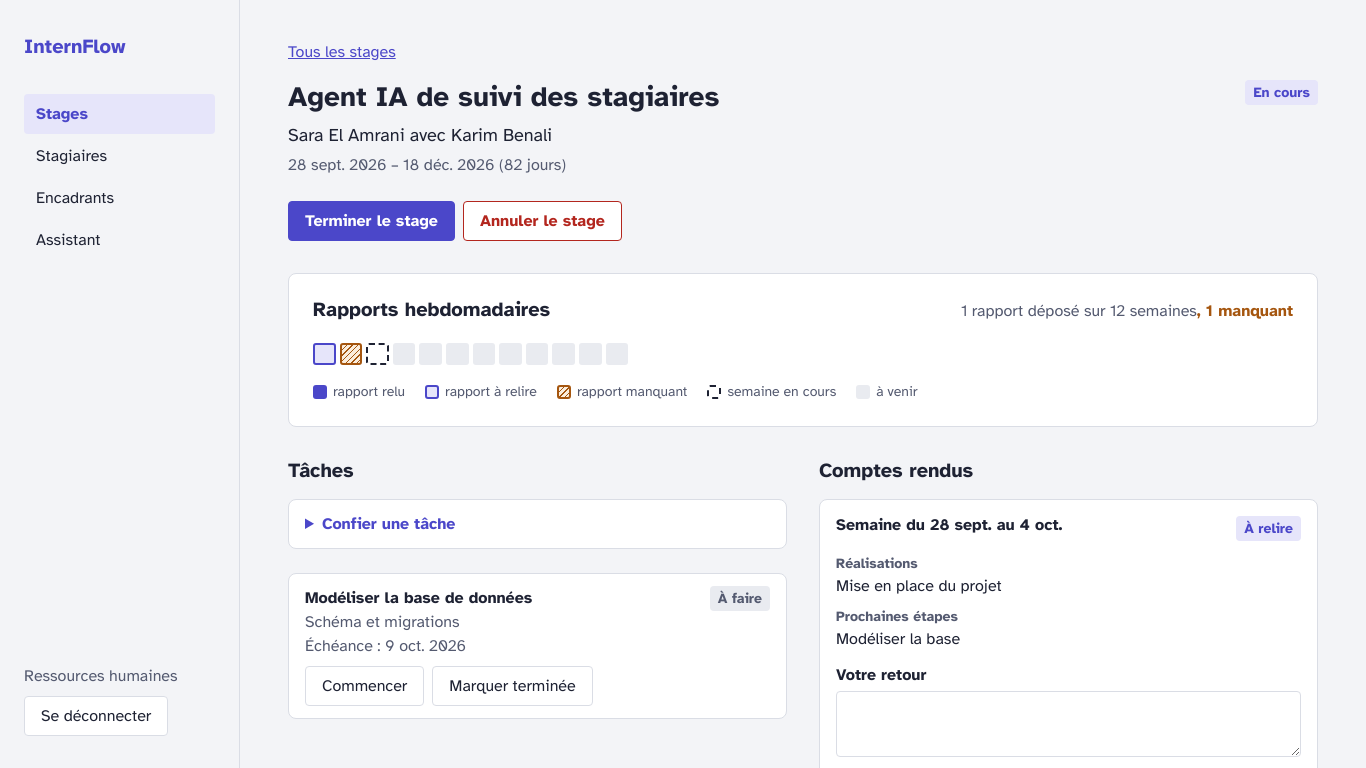
Test: page d'un stage › réserve l'annulation aux RH
Click the button "Annuler le stage". click: x=542, y=221
box: [463,201,622,241]
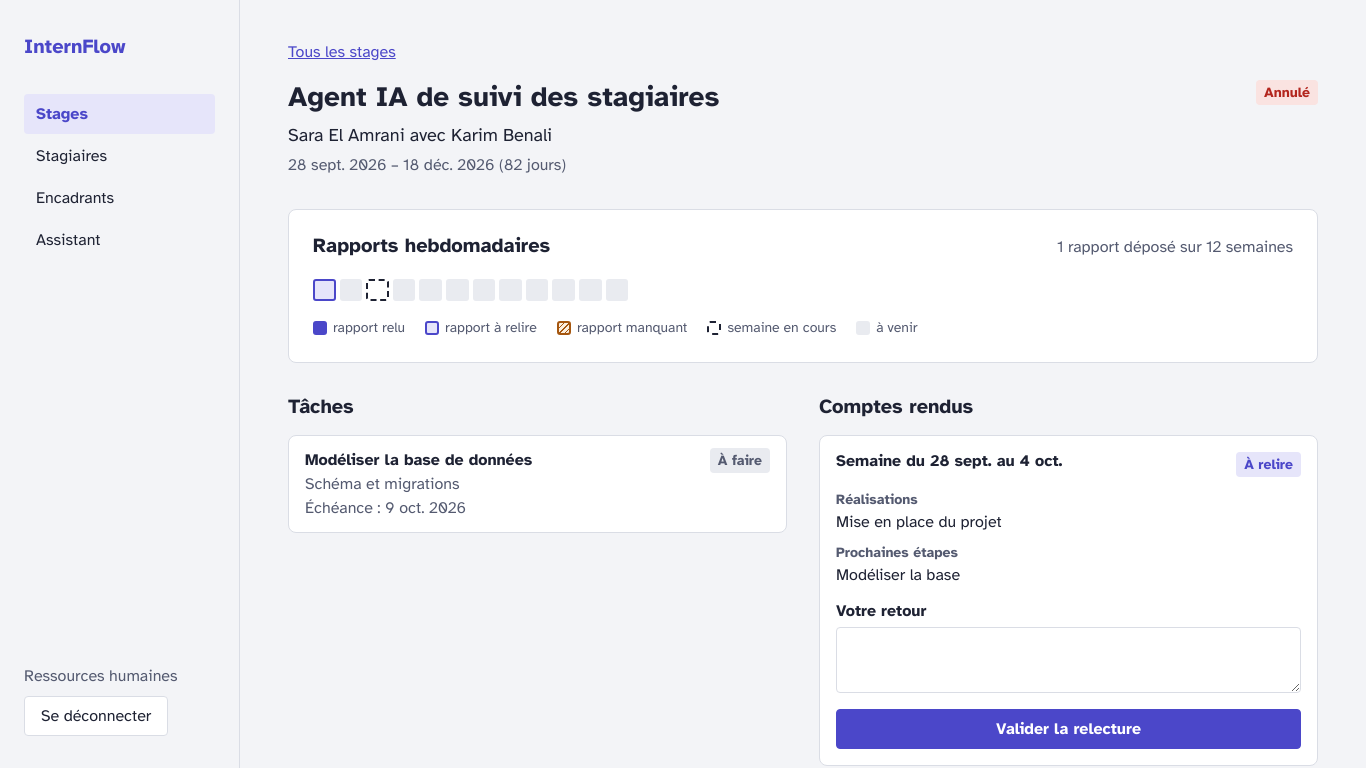
Expected: the text "Annulé" is shown, [1256,80,1318,105]
Expected: the heading "Confier une tâche" is gone
